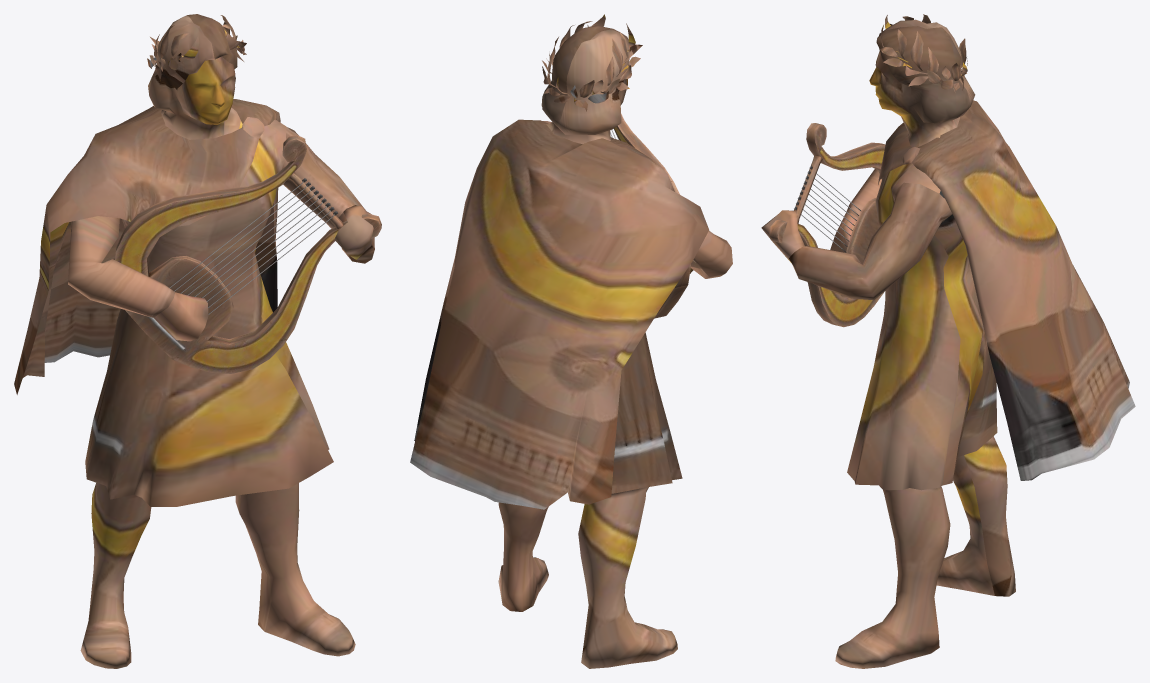
Rendered from 157-orpheus.glb.
3 renders of one model, left to right at view 1: azimuth 30°, elevation 25°; view 2: azimuth 150°, elevation 25°; view 3: azimuth 270°, elevation 25°, orthographic. The views are drawn at different scales.
Bounding box in the file's own units: 0.965 × 2.07 × 1.19.
Materials: 1 (1 with a texture image).
